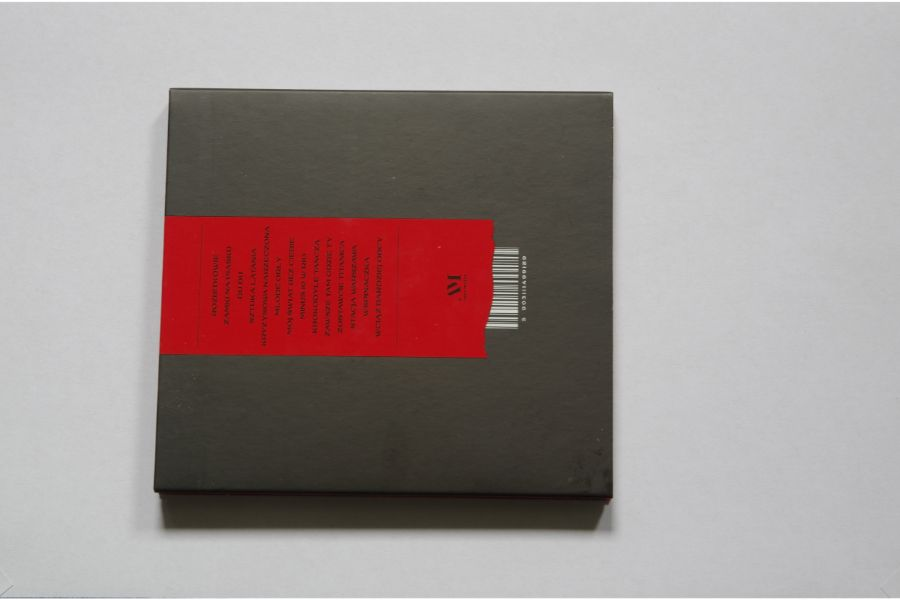album: (154, 86, 613, 502)
